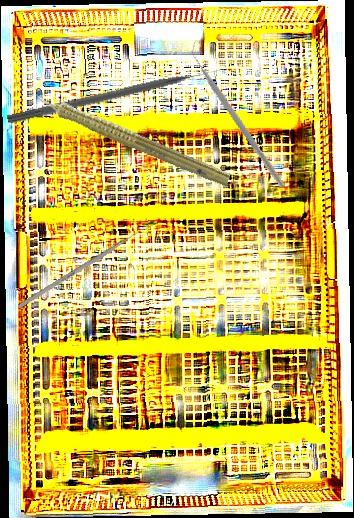Chopper: (154, 39, 325, 189)
Handpiece: (22, 80, 235, 191)
Pusher: (6, 65, 222, 127), (17, 223, 150, 310)
